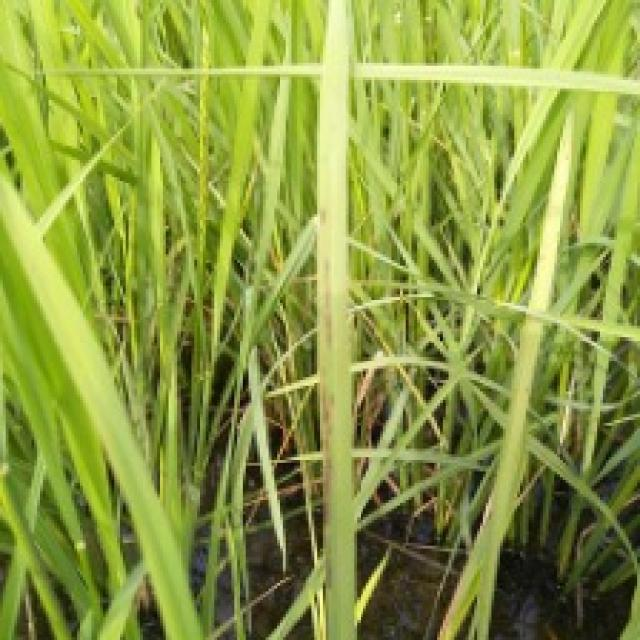Brown_Spot: (313, 257, 343, 355), (311, 379, 347, 445), (311, 203, 340, 234)
